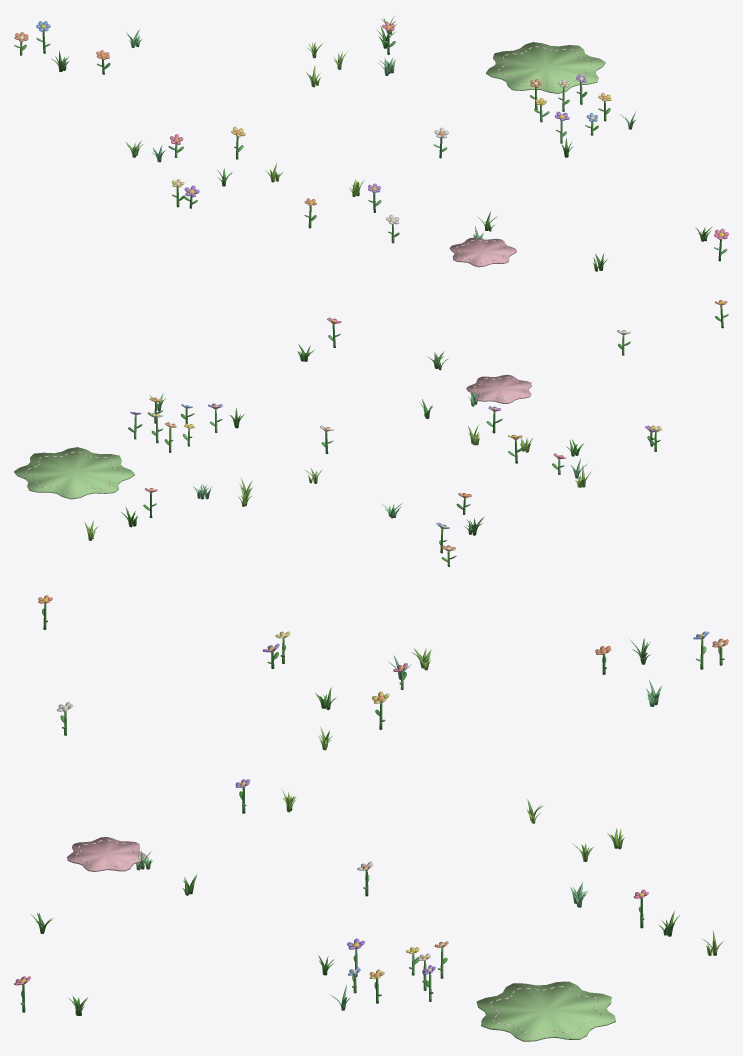
Rendered from W4_FloraRing_11_8.fbx.
3 views of the same model, one above another, from view 1: azimuth 30°, elevation 25°; view 2: azimuth 150°, elevation 25°; view 3: azimuth 270°, elevation 25° (orthographic). The views are drawn at different scales.
Visible parts, largest first — view 1: W4_FloraRing_11_8; view 2: W4_FloraRing_11_8; view 3: W4_FloraRing_11_8.
Boxes of the visible parts, left/top/right/bottom form: W4_FloraRing_11_8: left=14, top=16, right=728, bottom=271; W4_FloraRing_11_8: left=14, top=300, right=728, bottom=566; W4_FloraRing_11_8: left=14, top=595, right=728, bottom=1041.
Bounding box in the file's own units: 4.06 × 1.1 × 3.94.
